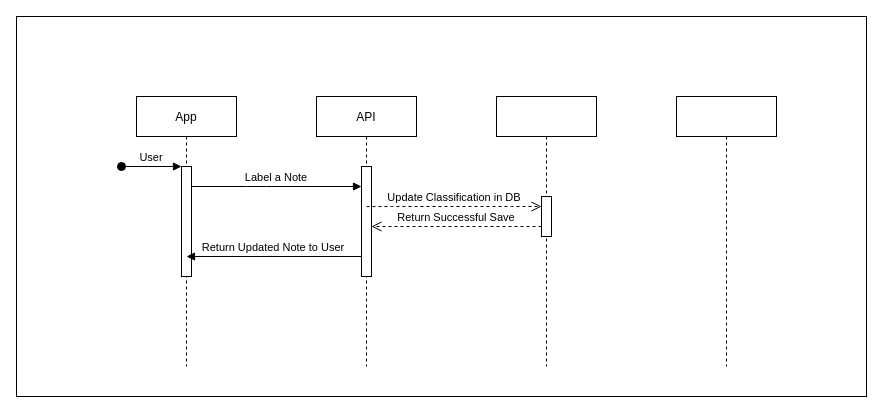
Image size: 883x413. Some labels were removed from this diagram. Each missing label, with the box of its shape:
Database: (496, 96, 596, 366)
GCP: (676, 96, 776, 366)
